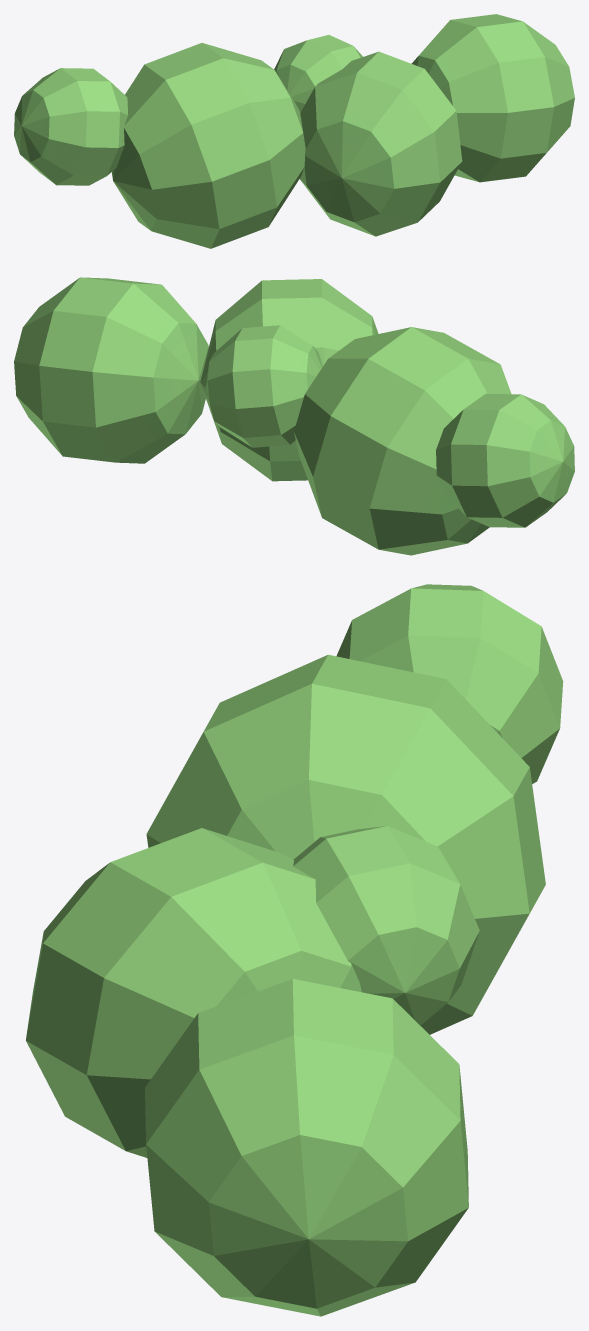
The model's file is bushes_2_3_world_ap_0_lev1.glb.
The picture shows the model from 3 angles, top to bottom: view 1: azimuth 30°, elevation 25°; view 2: azimuth 150°, elevation 25°; view 3: azimuth 270°, elevation 25°; orthographic projection. The views are drawn at different scales.
Parts seen in each view (by area): view 1: bushes_2_3_world_ap_0_lev1; view 2: bushes_2_3_world_ap_0_lev1; view 3: bushes_2_3_world_ap_0_lev1.
Boxes of the visible parts, x1,y1,x2,y2 form: bushes_2_3_world_ap_0_lev1: [14, 14, 574, 248]; bushes_2_3_world_ap_0_lev1: [14, 277, 574, 555]; bushes_2_3_world_ap_0_lev1: [26, 584, 563, 1316].
Size of the model in its own units: 1.27 by 0.4411 by 0.5848.
1 material, 1 textured.
